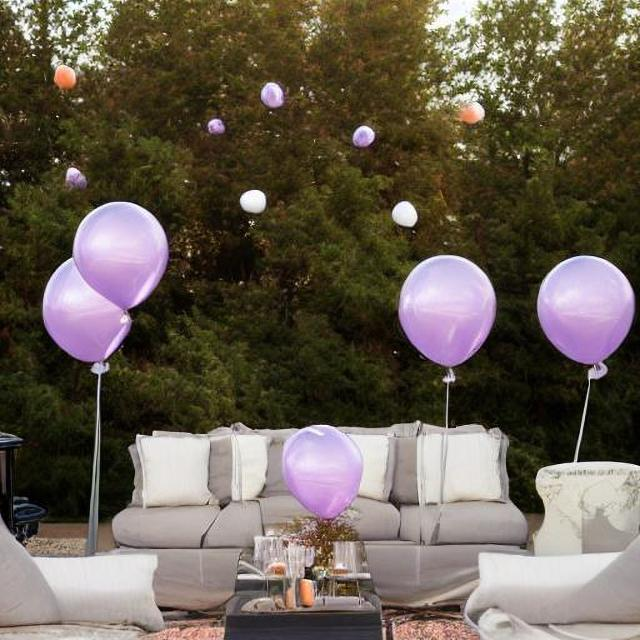balloon: (38, 198, 169, 362), (531, 251, 634, 367), (395, 252, 496, 366), (272, 414, 368, 530), (255, 70, 290, 121), (56, 158, 108, 191), (386, 192, 424, 232), (237, 183, 277, 217), (348, 118, 379, 156), (201, 110, 232, 142)
floating object: (453, 100, 485, 126), (51, 61, 78, 91)
